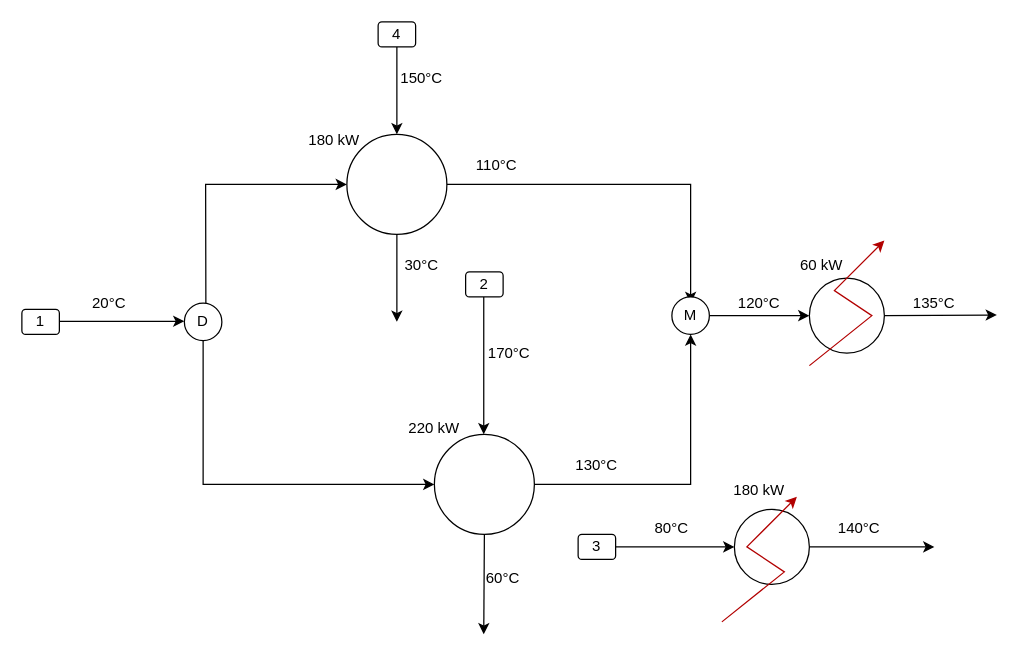
This 1029x666 diagram has some shape labels left out. The box of each missing label's shape, as (x1, y1, x2, y2) in pixels:
2x1: (433, 433, 534, 534)
4x1: (346, 133, 447, 234)
